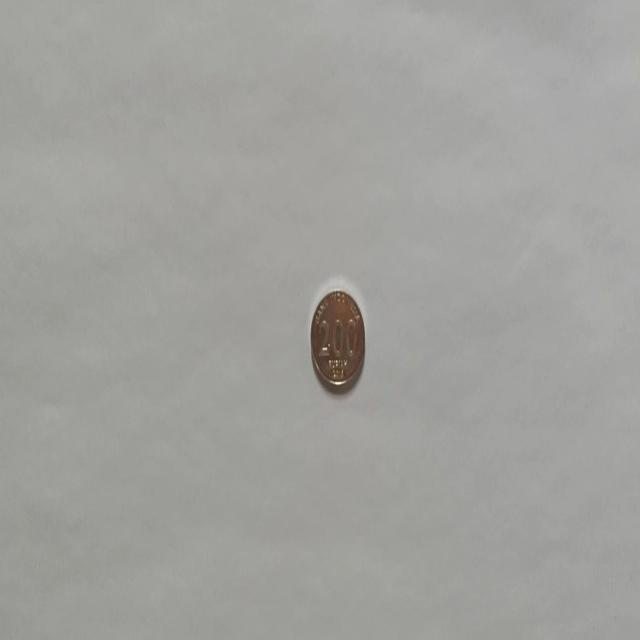dua ratus rupiah: (308, 287, 366, 392)
